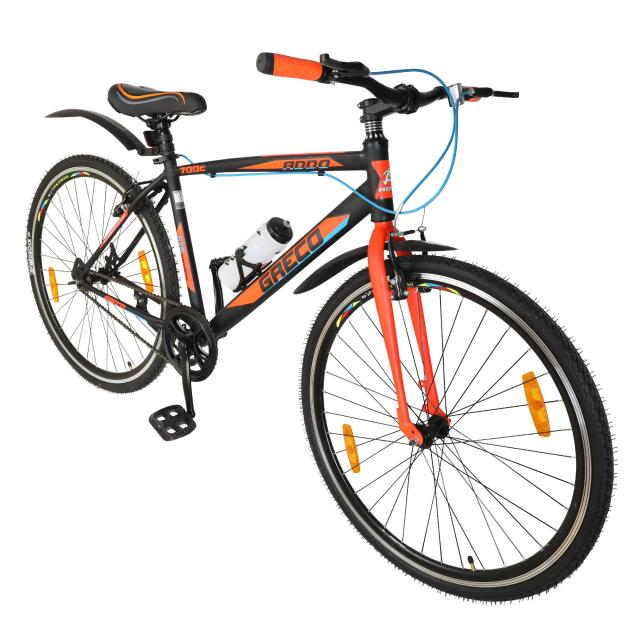bicycle: (28, 54, 611, 600)
